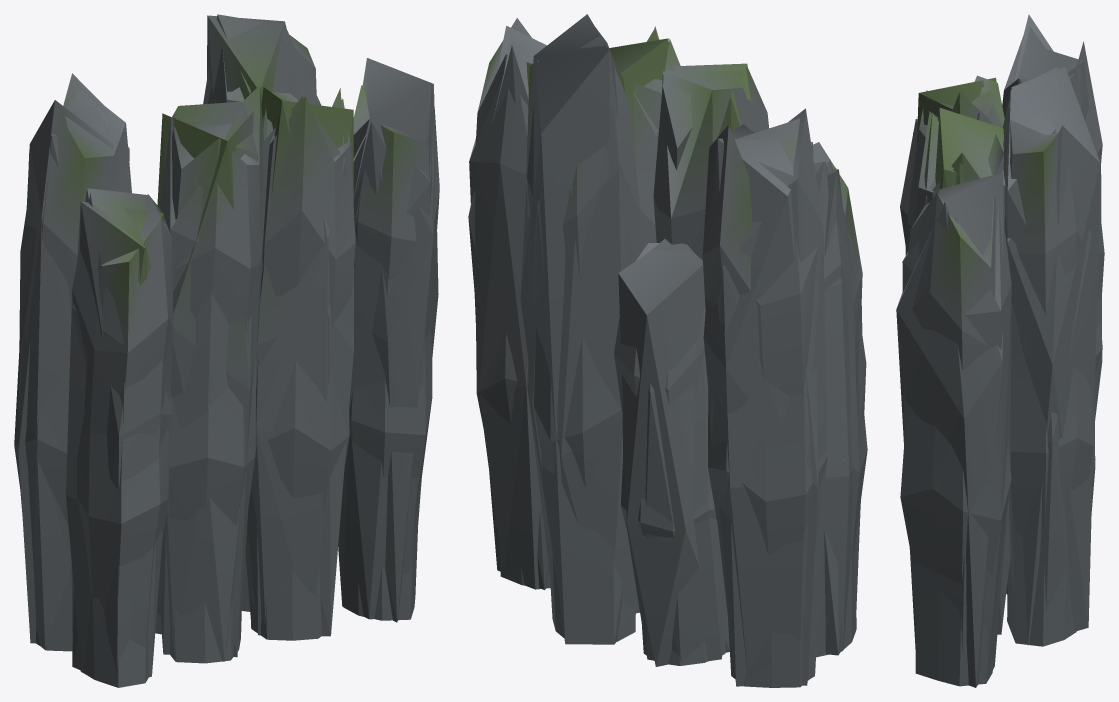
File: Cliff.glb
3 renders of one model, left to right at view 1: azimuth 30°, elevation 25°; view 2: azimuth 150°, elevation 25°; view 3: azimuth 270°, elevation 25°, orthographic. The views are drawn at different scales.
Parts seen in each view (by area): view 1: Cliff_L0, Cliff_L1, Cliff_L2; view 2: Cliff_L1, Cliff_L2, Cliff_L0; view 3: Cliff_L0, Cliff_L2, Cliff_L1.
Boxes of the visible parts, <box> form: Cliff_L0: <box>14,35,439,687</box>; Cliff_L1: <box>18,14,431,672</box>; Cliff_L2: <box>18,15,438,677</box>; Cliff_L1: <box>469,27,862,679</box>; Cliff_L2: <box>468,14,866,686</box>; Cliff_L0: <box>475,18,867,687</box>; Cliff_L0: <box>900,26,1102,686</box>; Cliff_L2: <box>896,49,1104,687</box>; Cliff_L1: <box>902,14,1102,681</box>.
Size of the model in its own units: 8.1 by 12 by 4.11.
